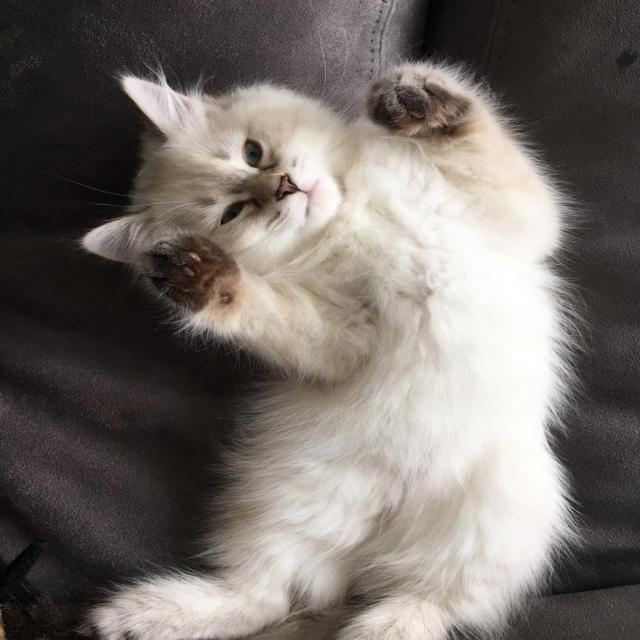Neva Masquerade: (72, 55, 589, 640)
